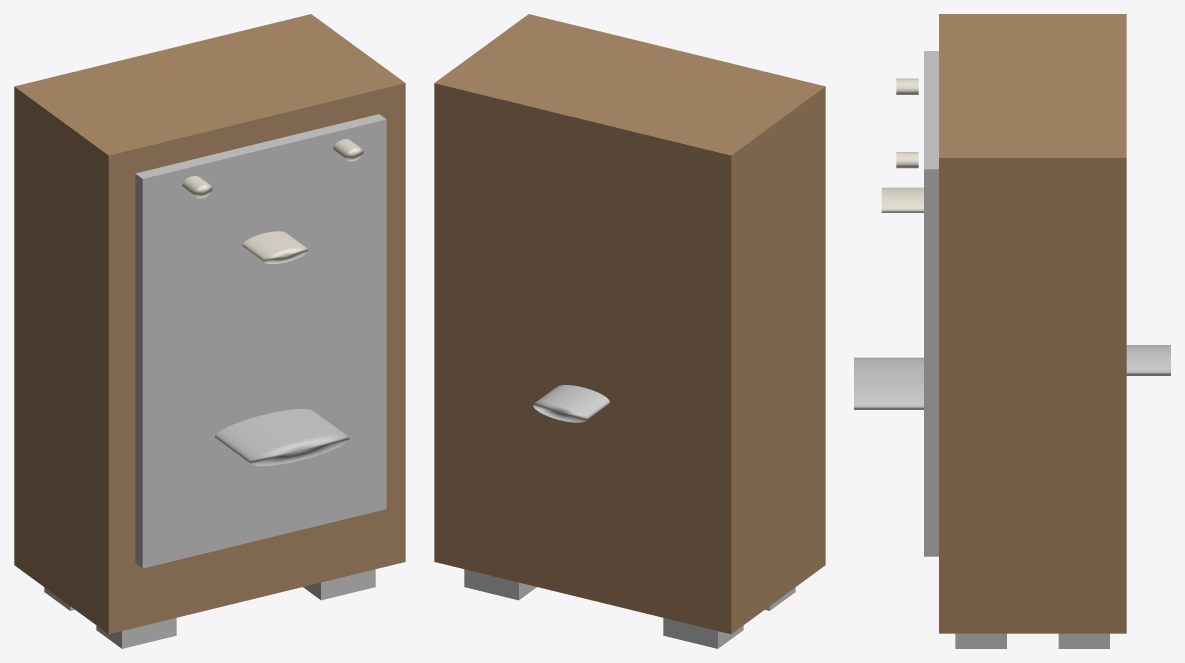
Rendered from animated-character-external.gltf.
3 views of the same model, side by side, from view 1: azimuth 30°, elevation 25°; view 2: azimuth 150°, elevation 25°; view 3: azimuth 270°, elevation 25° (orthographic).
Visible parts, largest first — view 1: cabinet, front-grille, woofer-cone, tweeter, front-left-rubber-foot, front-right-rubber-foot; view 2: cabinet, rear-port, rear-left-rubber-foot, rear-right-rubber-foot; view 3: cabinet, front-grille, woofer-cone, rear-port, tweeter, front-right-rubber-foot, rear-right-rubber-foot.
Boxes of the visible parts, x1,y1,x2,y2 form: cabinet: (14,14,405,634); front-grille: (135,114,386,568); woofer-cone: (215,409,349,466); tweeter: (242,231,308,263); front-left-rubber-foot: (96,618,176,648); front-right-rubber-foot: (303,569,375,600); cabinet: (434,14,825,634); rear-port: (533,385,609,422); rear-left-rubber-foot: (663,618,743,648); rear-right-rubber-foot: (464,569,536,600); cabinet: (939,14,1126,633); front-grille: (924,51,938,556); woofer-cone: (854,357,923,409); rear-port: (1126,345,1170,375); tweeter: (881,187,923,212); front-right-rubber-foot: (955,633,1006,648); rear-right-rubber-foot: (1058,633,1109,648).
Size of the model in its own units: 1.85 by 3 by 1.72.
